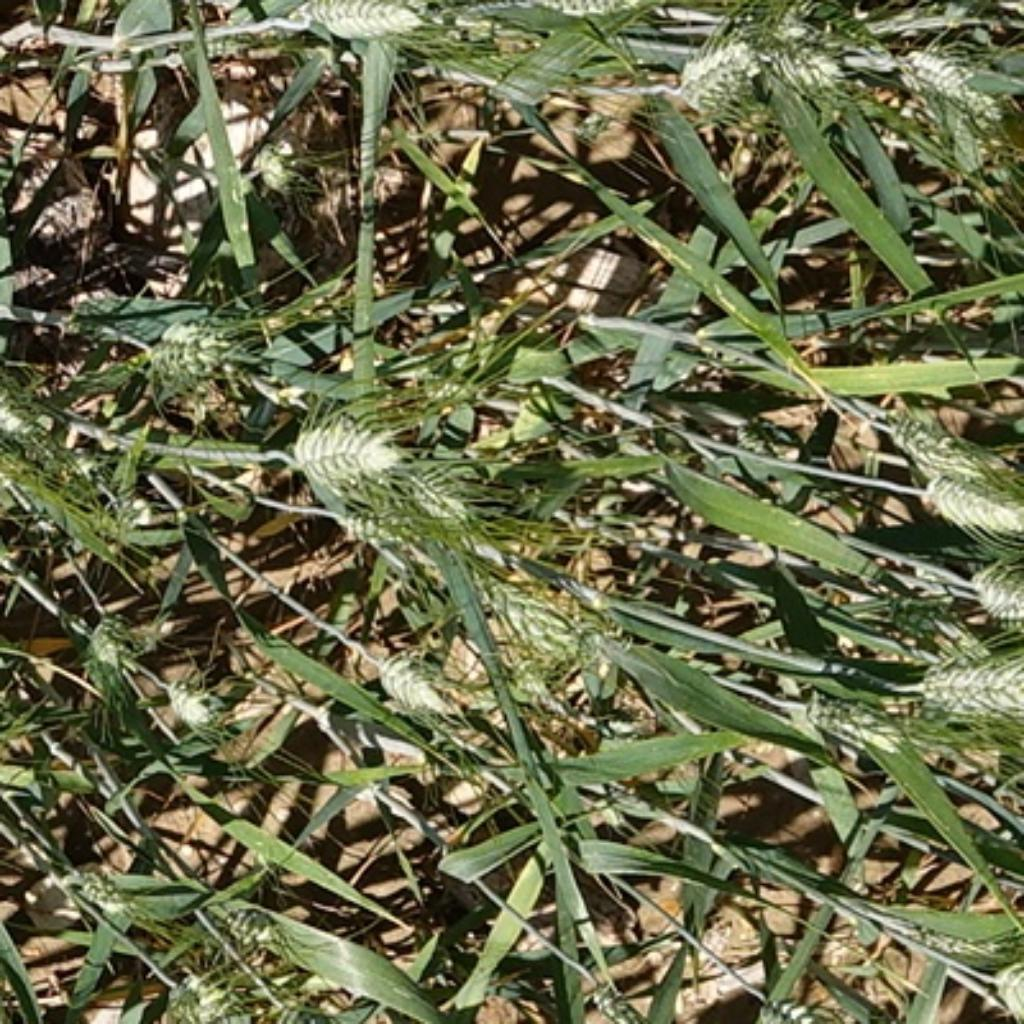0-0: (481, 568, 622, 714), (742, 15, 875, 130), (133, 294, 250, 396), (806, 686, 949, 765), (892, 32, 1002, 134), (181, 133, 294, 230), (878, 404, 1024, 478), (144, 947, 282, 1024), (281, 401, 401, 486), (341, 492, 476, 566), (673, 20, 773, 115), (864, 907, 1011, 971), (916, 471, 1024, 552), (908, 642, 1018, 721), (380, 478, 512, 539), (58, 857, 163, 931), (371, 645, 458, 727), (212, 893, 307, 965), (279, 0, 430, 40), (79, 599, 148, 683), (153, 668, 220, 732), (967, 576, 1024, 647), (565, 975, 642, 1024), (506, 0, 652, 20), (747, 993, 832, 1024)
